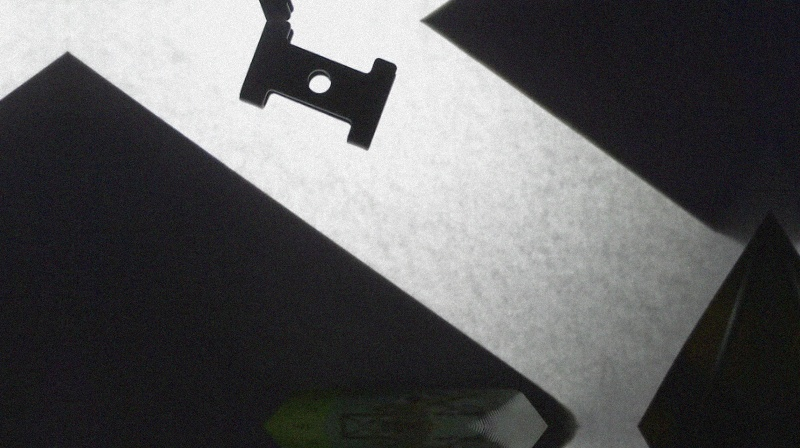O002: (243, 21, 399, 151)
